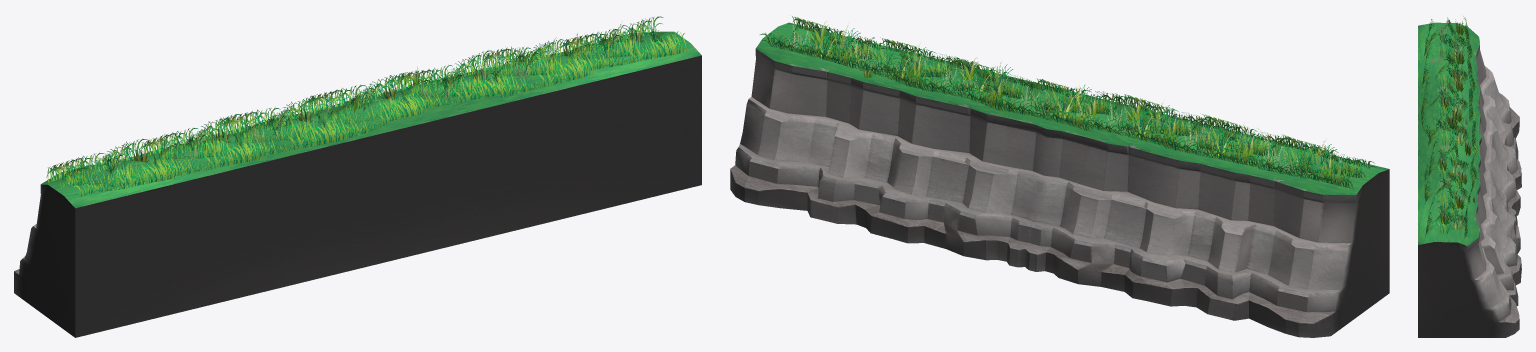
The model's file is cliff+grass.fbx.
The picture shows the model from 3 angles, left to right: view 1: azimuth 30°, elevation 25°; view 2: azimuth 150°, elevation 25°; view 3: azimuth 270°, elevation 25°; orthographic projection. The views are drawn at different scales.
Parts seen in each view (by area): view 1: Cliff, grass; view 2: Cliff, grass; view 3: Cliff, grass.
Part boxes in pixels (left/top/right/bottom): Cliff: left=14, top=31, right=701, bottom=337; grass: left=46, top=16, right=687, bottom=196; Cliff: left=730, top=22, right=1389, bottom=337; grass: left=760, top=16, right=1375, bottom=189; Cliff: left=1418, top=22, right=1521, bottom=337; grass: left=1420, top=16, right=1477, bottom=238.
Size of the model in its own units: 1537 by 377 by 308.
